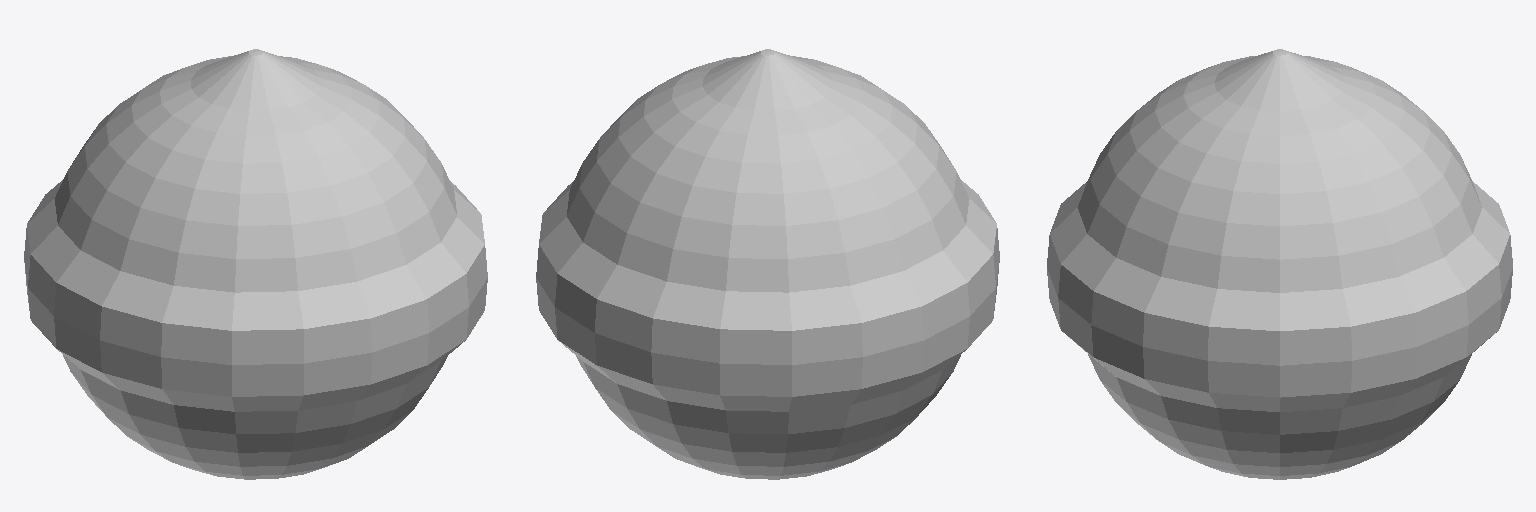
The model's file is DoraemonBell.obj.
3 views of the same model, side by side, from view 1: azimuth 30°, elevation 25°; view 2: azimuth 150°, elevation 25°; view 3: azimuth 270°, elevation 25° (orthographic).
Parts seen in each view (by area): view 1: pSphere1; view 2: pSphere1; view 3: pSphere1.
Part boxes in pixels (x1,y1,x2,y2): pSphere1: (24, 49, 487, 479); pSphere1: (536, 49, 999, 479); pSphere1: (1047, 49, 1512, 479).
Bounding box in the file's own units: 0.2128 × 0.2055 × 0.2128.